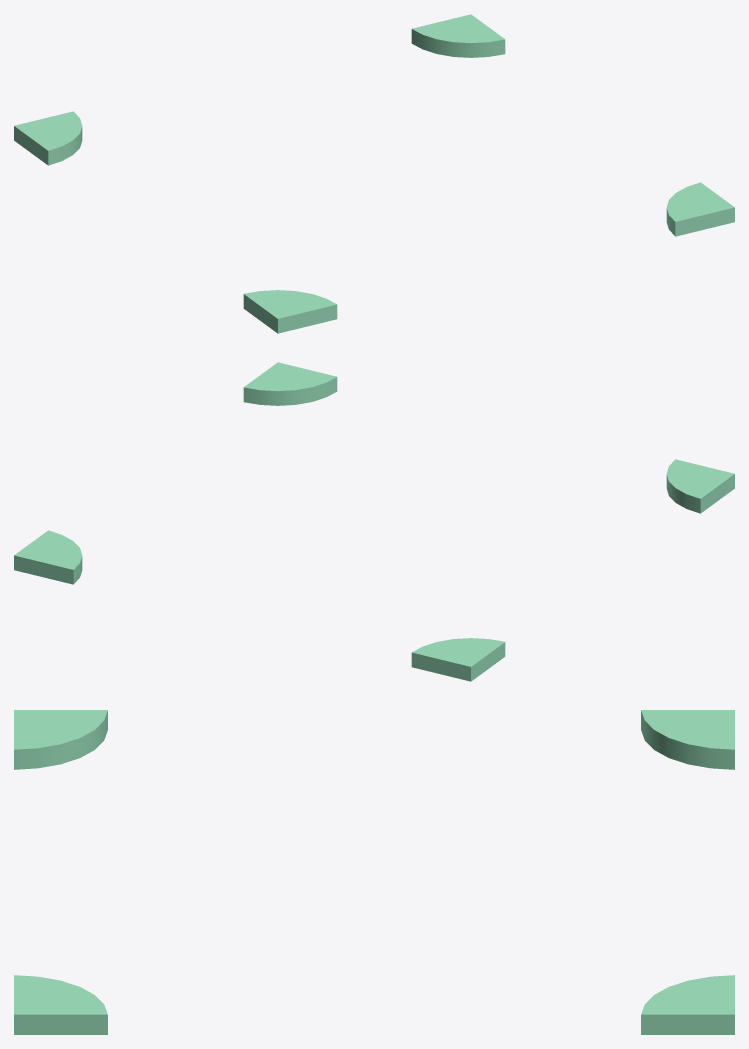
The model's file is ground_grass_cross.fbx.
The picture shows the model from 3 angles, top to bottom: view 1: azimuth 30°, elevation 25°; view 2: azimuth 150°, elevation 25°; view 3: azimuth 270°, elevation 25°; orthographic projection. The views are drawn at different scales.
Parts seen in each view (by area): view 1: ground_grass_cross; view 2: ground_grass_cross; view 3: ground_grass_cross.
Part boxes in pixels (x1=…): ground_grass_cross: x1=14, y1=14, x2=734, y2=333; ground_grass_cross: x1=14, y1=362, x2=734, y2=681; ground_grass_cross: x1=14, y1=710, x2=734, y2=1034.
Bounding box in the file's own units: 200 × 6.16 × 200.
